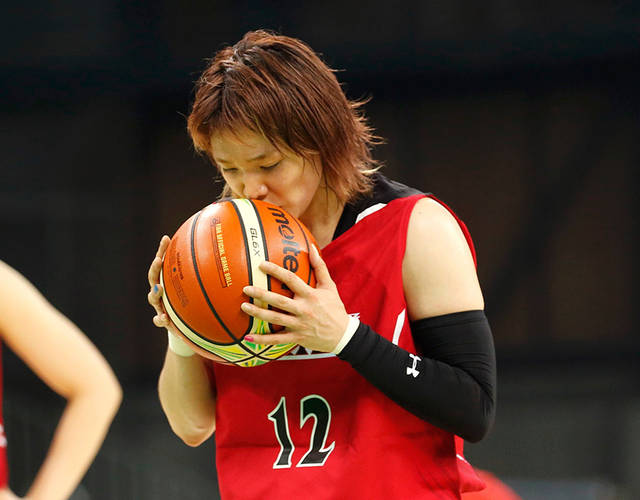face: (213, 114, 319, 224)
